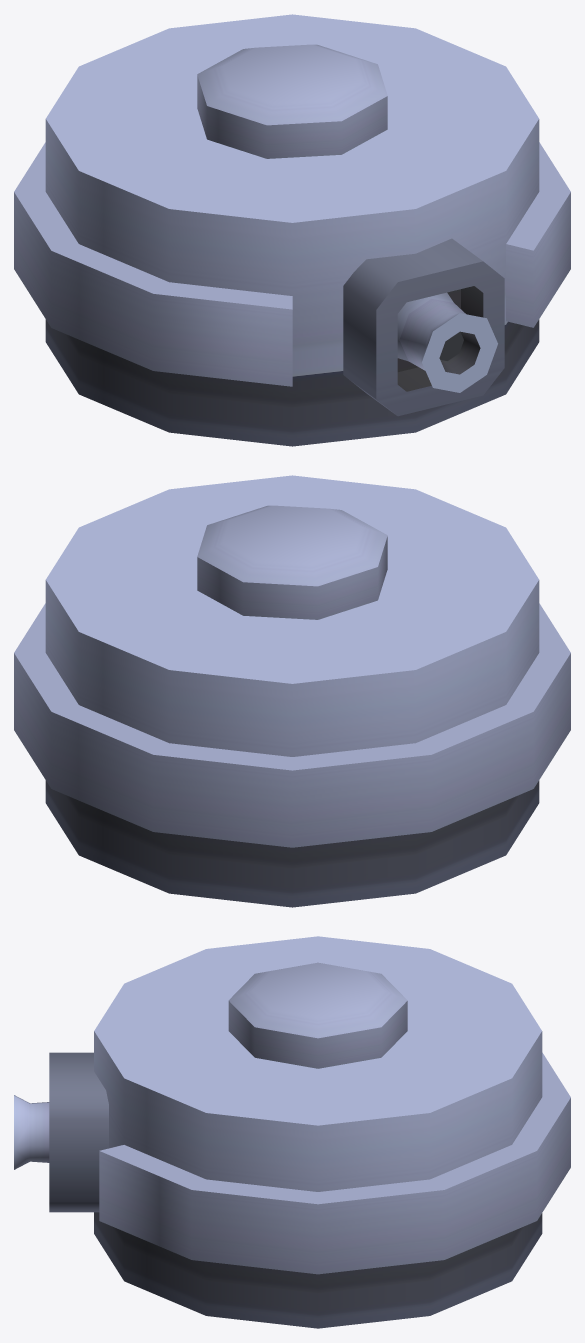
Rendered from kenney-tower-defense-tower-round-middle-b.glb.
3 views of the same model, one above another, from view 1: azimuth 30°, elevation 25°; view 2: azimuth 150°, elevation 25°; view 3: azimuth 270°, elevation 25° (orthographic). The views are drawn at different scales.
Parts seen in each view (by area): view 1: tower-round-middle-b; view 2: tower-round-middle-b; view 3: tower-round-middle-b.
Boxes of the visible parts, x1,y1,x2,y2 form: tower-round-middle-b: [14, 14, 570, 446]; tower-round-middle-b: [14, 475, 570, 907]; tower-round-middle-b: [14, 936, 570, 1328].
Size of the model in its own units: 1.13 by 0.6 by 1.24.
1 material, 1 textured.
